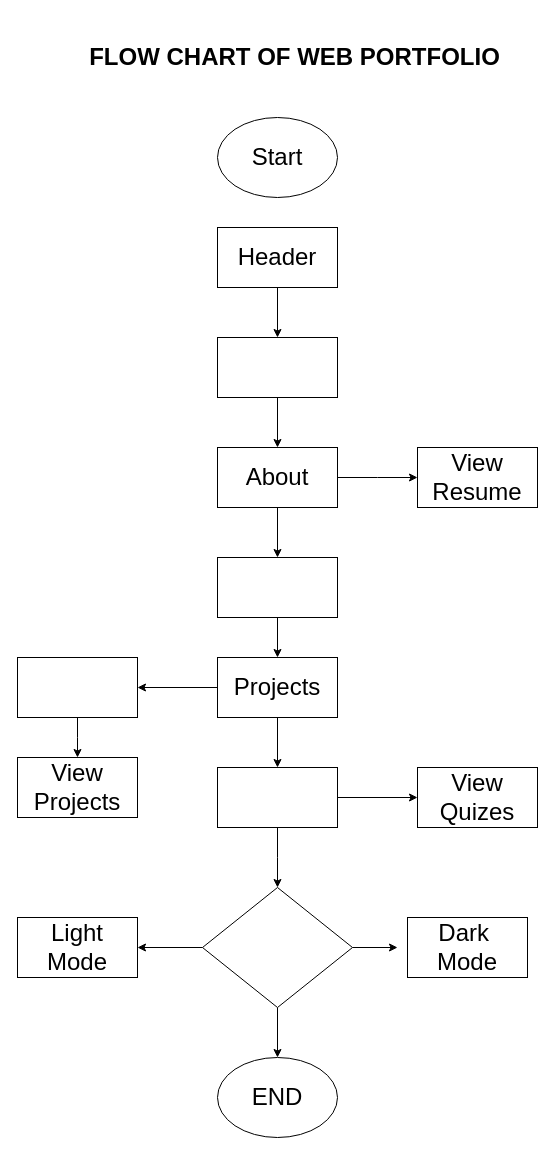
Image size: 555x1155. Some labels were removed from this diagram. Here are the shapes that lost their labels. From the top down, the centre of each, then its label:
At [277,367]: "Home".
At [277,587]: "Skills".
At [77,687]: "Show Projects".
At [277,797]: "Quizes".
At [277,947]: "Choose mode".
